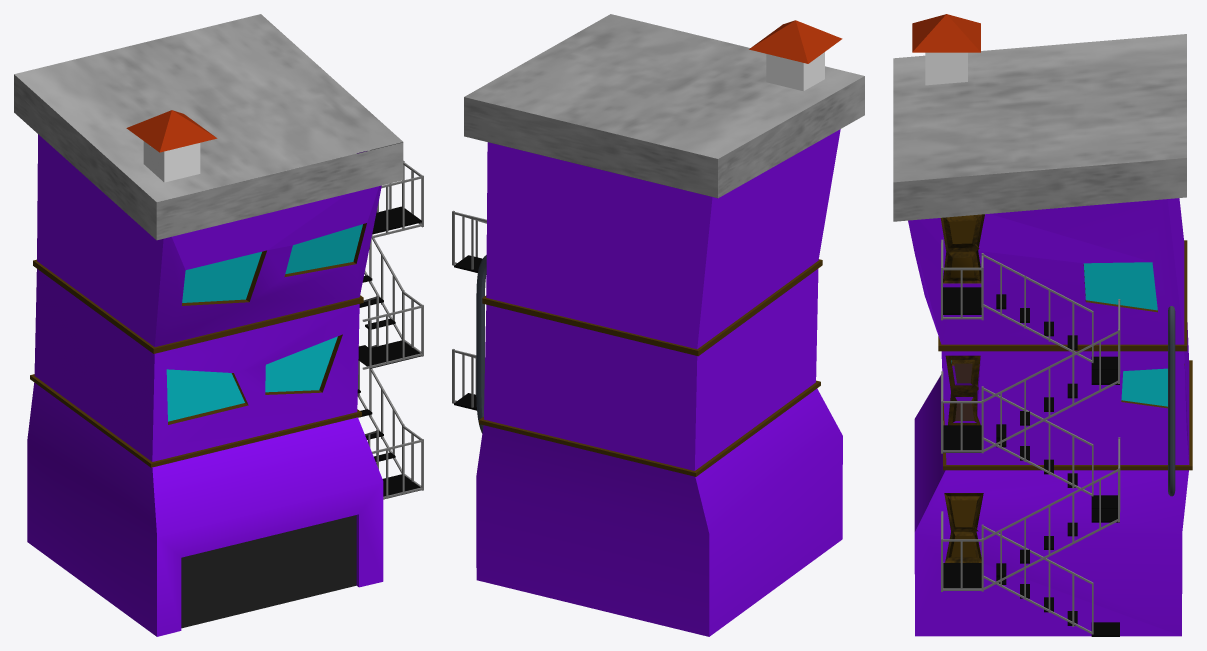
The model's file is PredioTorto-RoxoLOD0.fbx.
The picture shows the model from 3 angles, left to right: view 1: azimuth 30°, elevation 25°; view 2: azimuth 150°, elevation 25°; view 3: azimuth 270°, elevation 25°; orthographic projection. The views are drawn at different scales.
Parts seen in each view (by area): view 1: Predio3Andares; view 2: Predio3Andares; view 3: Predio3Andares.
Part boxes in pixels (<box>): Predio3Andares: <box>14,14,423,636</box>; Predio3Andares: <box>452,14,864,636</box>; Predio3Andares: <box>893,14,1192,636</box>.
Size of the model in its own units: 1035 by 1727 by 895.
